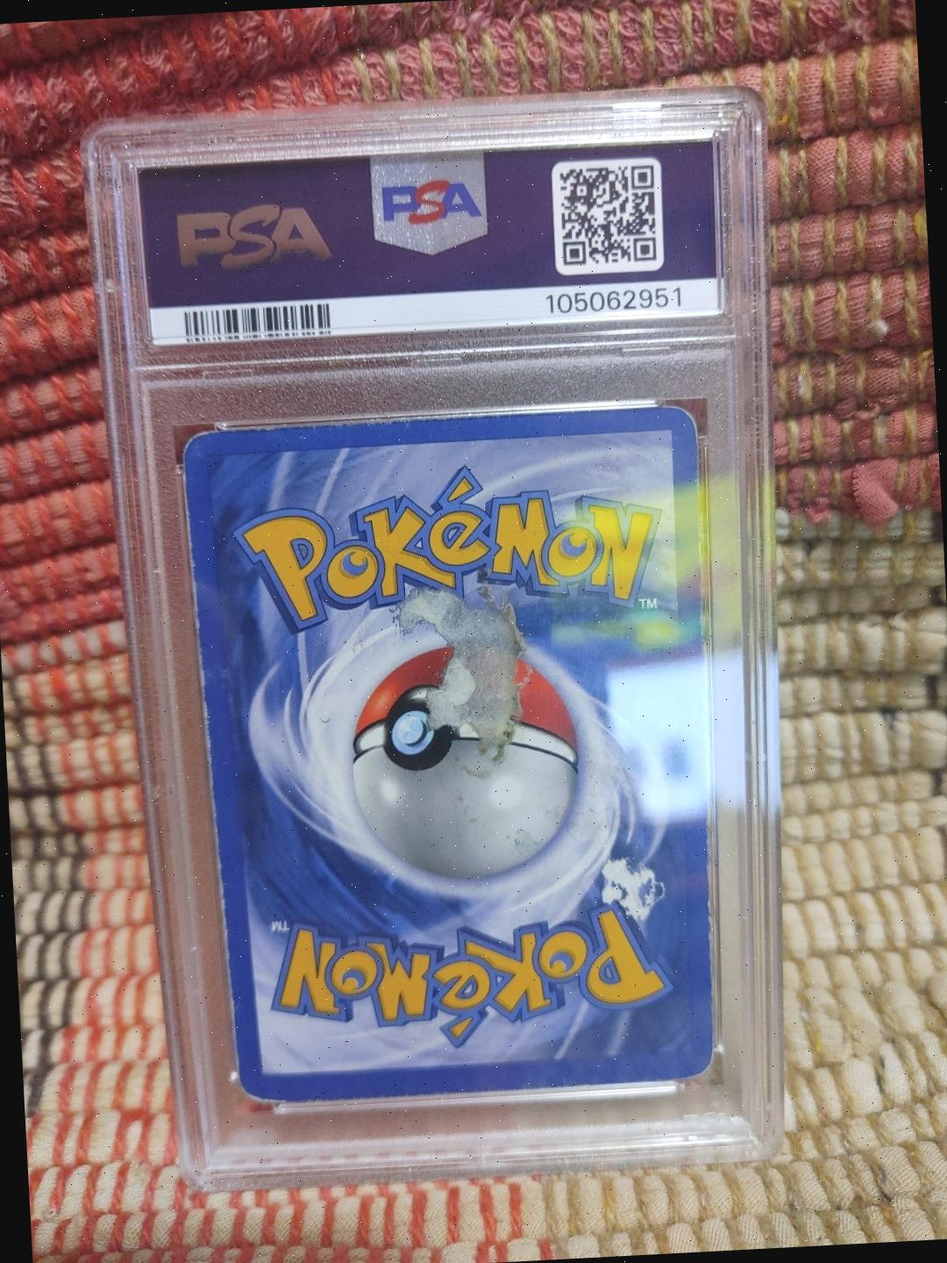card-2UtV: (181, 405, 714, 1103)
